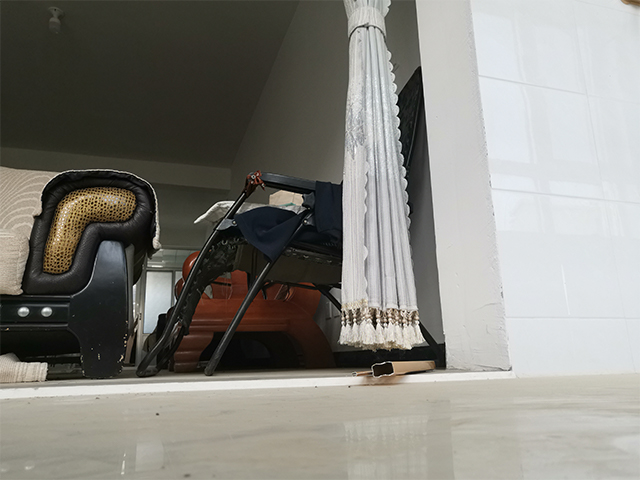curtain: (336, 1, 431, 354)
sofa: (1, 167, 163, 381)
stool: (133, 65, 444, 379)
